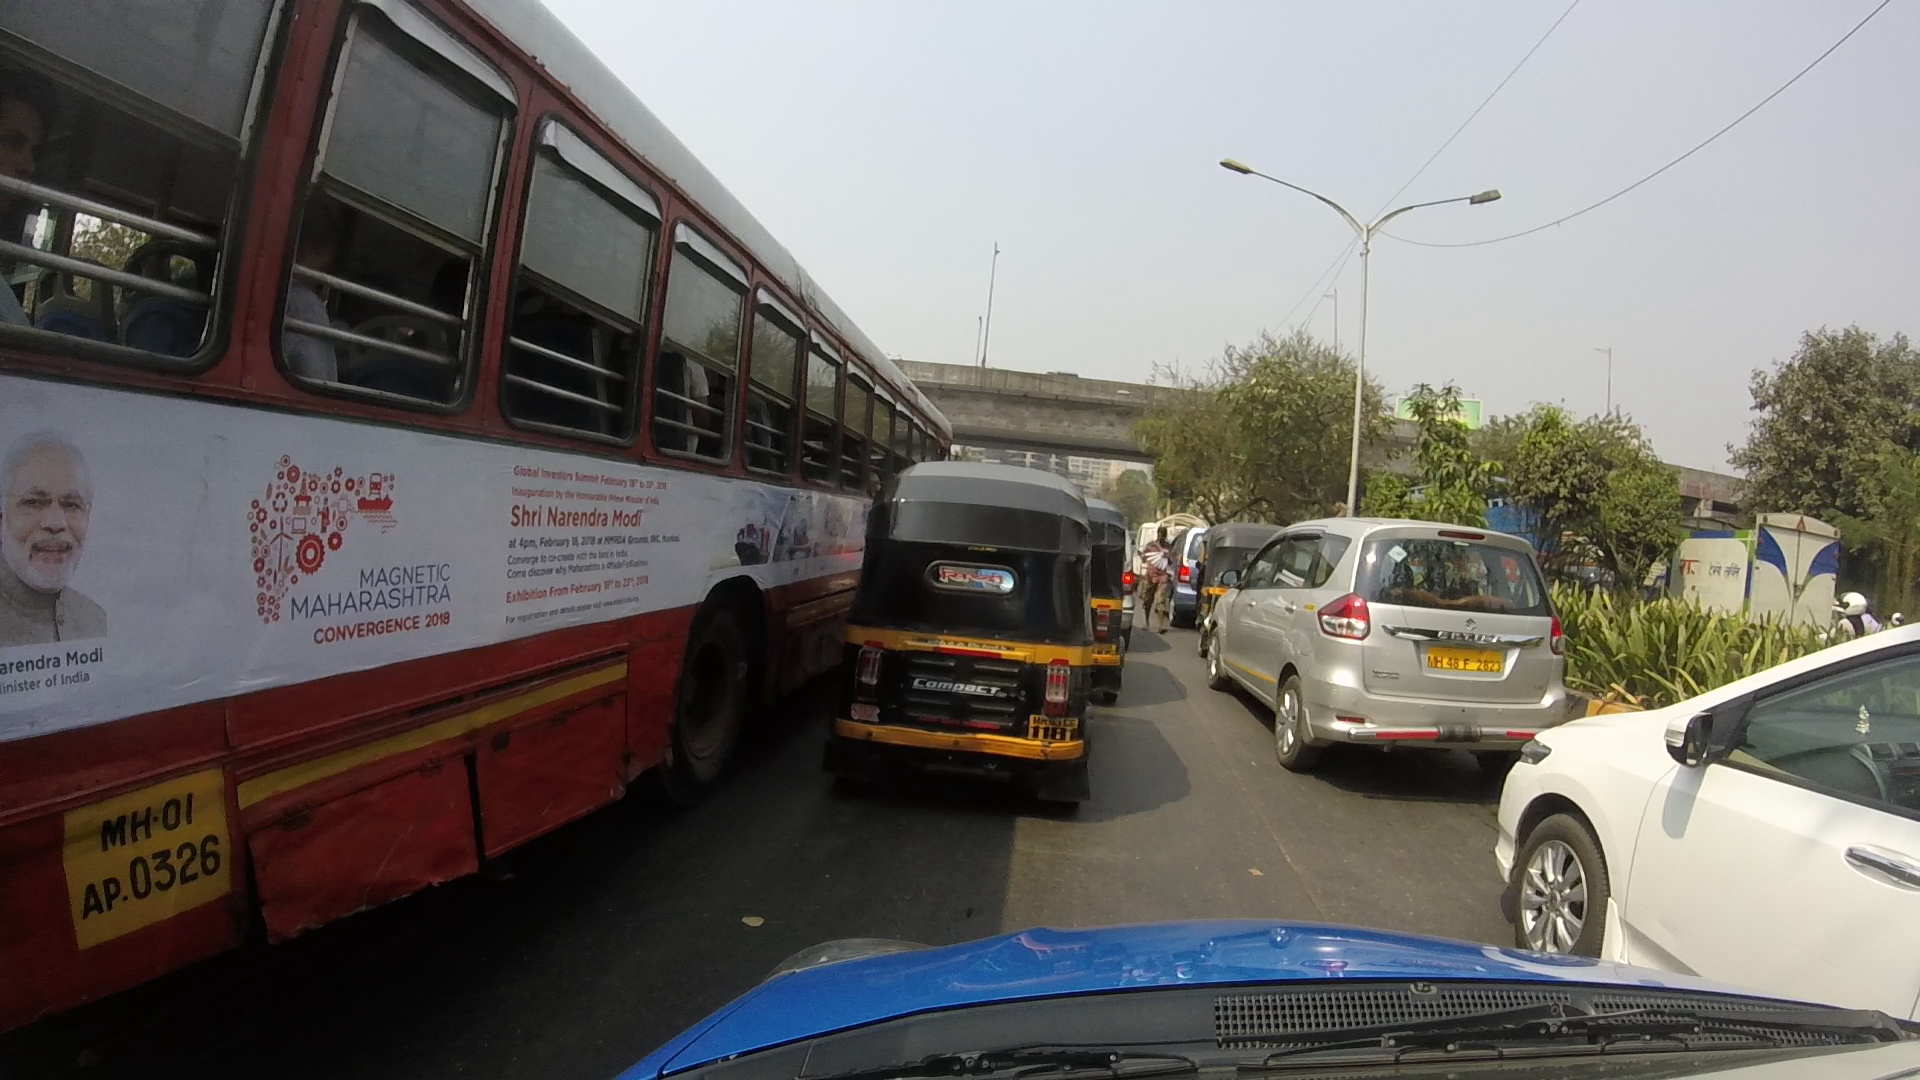bus: (22, 7, 934, 986)
car: (1487, 604, 1920, 1030), (1199, 520, 1575, 764), (1146, 516, 1189, 618)
rickshaw: (872, 458, 1098, 816), (1203, 516, 1278, 624)
